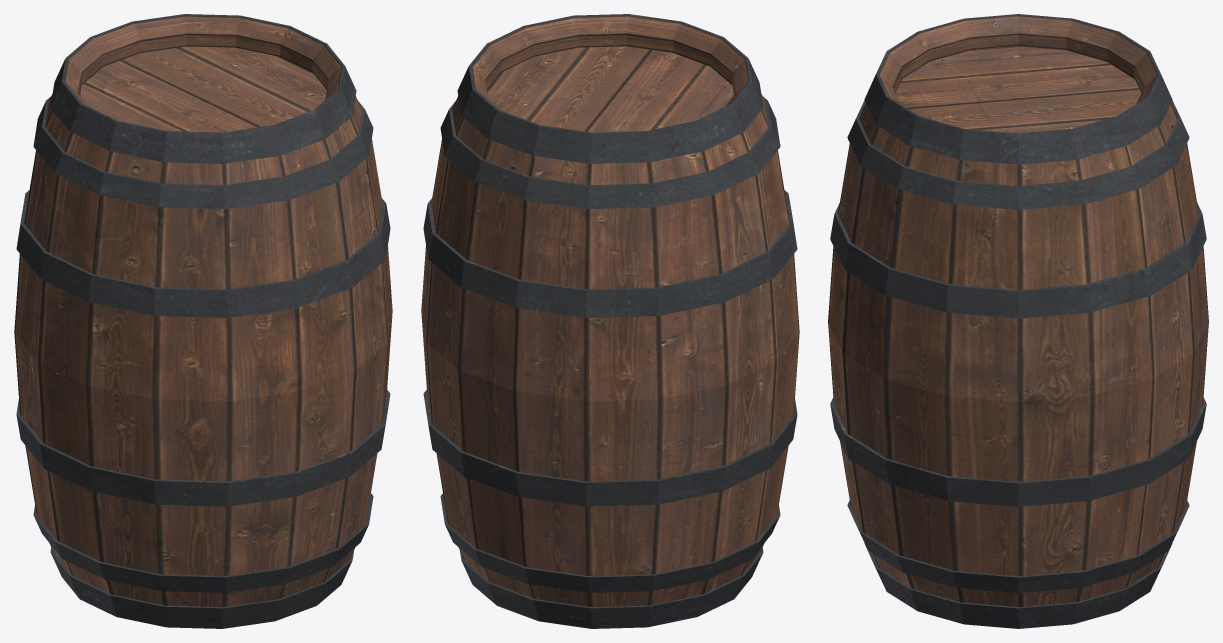
Rendered from wooden_barrel.obj.
3 views of the same model, side by side, from view 1: azimuth 30°, elevation 25°; view 2: azimuth 150°, elevation 25°; view 3: azimuth 270°, elevation 25° (orthographic).
Parts seen in each view (by area): view 1: wooden_barrel; view 2: wooden_barrel; view 3: wooden_barrel.
Part boxes in pixels (bbox=[...]): wooden_barrel: bbox=[14, 14, 392, 628]; wooden_barrel: bbox=[421, 14, 799, 628]; wooden_barrel: bbox=[828, 14, 1208, 628].
Bounding box in the file's own units: 2.72 × 3.9 × 2.72.
1 material, 1 textured.
